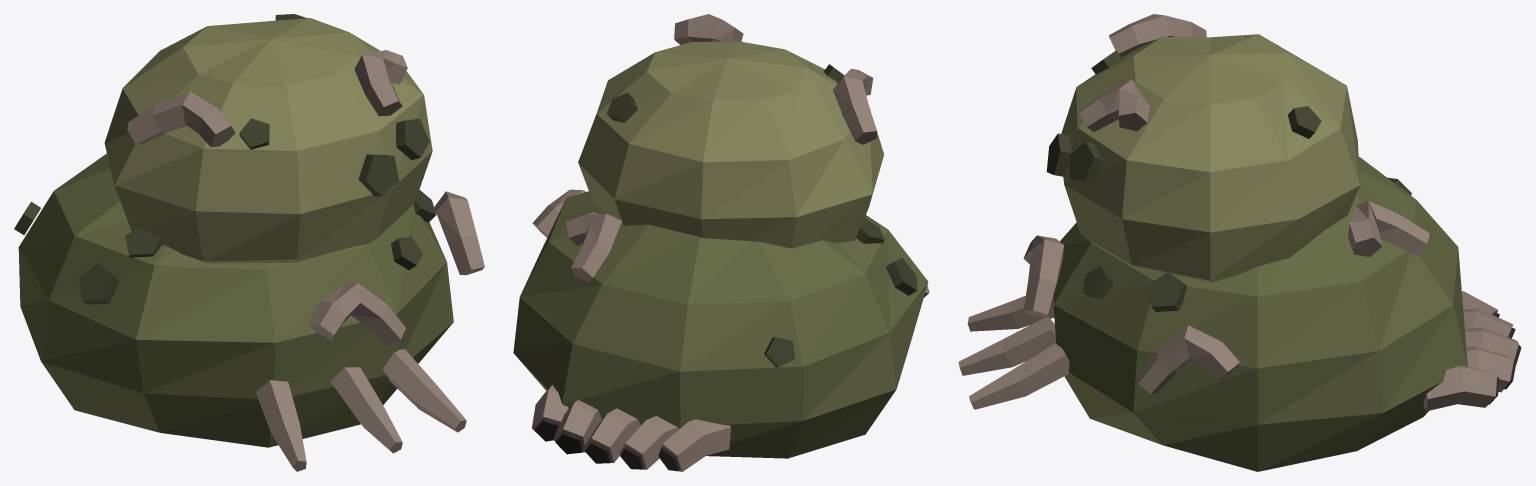
Rendered from vge_exohive.obj.
3 views of the same model, side by side, from view 1: azimuth 30°, elevation 25°; view 2: azimuth 150°, elevation 25°; view 3: azimuth 270°, elevation 25° (orthographic). The views are drawn at different scales.
Parts seen in each view (by area): view 1: vge_exohive_0, vge_exohive_1, vge_exohive_14, vge_exohive_11, vge_exohive_28, vge_exohive_27, vge_exohive_26, vge_exohive_13, vge_exohive_15, vge_exohive_9, vge_exohive_4, vge_exohive_10 (+3 smaller); view 2: vge_exohive_0, vge_exohive_1, vge_exohive_12, vge_exohive_24, vge_exohive_14, vge_exohive_15, vge_exohive_20, vge_exohive_22, vge_exohive_18, vge_exohive_16, vge_exohive_4, vge_exohive_13 (+4 smaller); view 3: vge_exohive_0, vge_exohive_1, vge_exohive_13, vge_exohive_12, vge_exohive_28, vge_exohive_27, vge_exohive_11, vge_exohive_16, vge_exohive_15, vge_exohive_14, vge_exohive_26, vge_exohive_3 (+7 smaller).
Part boxes in pixels (box(x1,y1,x2,y2)): vge_exohive_0: box(18, 153, 453, 447); vge_exohive_1: box(104, 18, 432, 263); vge_exohive_14: box(127, 91, 235, 146); vge_exohive_11: box(308, 282, 405, 346); vge_exohive_28: box(382, 349, 466, 432); vge_exohive_27: box(330, 367, 402, 453); vge_exohive_26: box(256, 380, 306, 471); vge_exohive_13: box(434, 191, 484, 275); vge_exohive_15: box(354, 50, 407, 116); vge_exohive_9: box(358, 154, 399, 196); vge_exohive_4: box(78, 263, 119, 304); vge_exohive_10: box(396, 118, 429, 160); vge_exohive_0: box(513, 191, 928, 458); vge_exohive_1: box(578, 41, 884, 248); vge_exohive_12: box(566, 212, 621, 282); vge_exohive_24: box(660, 419, 730, 471); vge_exohive_14: box(833, 68, 877, 144); vge_exohive_15: box(674, 14, 743, 44); vge_exohive_20: box(583, 408, 640, 463); vge_exohive_22: box(619, 416, 679, 469); vge_exohive_18: box(553, 400, 601, 452); vge_exohive_16: box(532, 385, 568, 432); vge_exohive_4: box(885, 257, 917, 295); vge_exohive_13: box(532, 189, 585, 237); vge_exohive_0: box(1053, 157, 1467, 471); vge_exohive_1: box(1061, 34, 1359, 282); vge_exohive_13: box(1137, 325, 1239, 393); vge_exohive_12: box(1348, 200, 1429, 256); vge_exohive_28: box(969, 343, 1069, 409); vge_exohive_27: box(958, 316, 1055, 375); vge_exohive_11: box(1023, 235, 1063, 317); vge_exohive_16: box(1423, 365, 1497, 411); vge_exohive_15: box(1079, 79, 1149, 131); vge_exohive_14: box(1109, 14, 1206, 57); vge_exohive_26: box(967, 295, 1054, 331); vge_exohive_3: box(1147, 272, 1186, 311).
Size of the model in its own units: 1.19 by 1.02 by 1.43.
